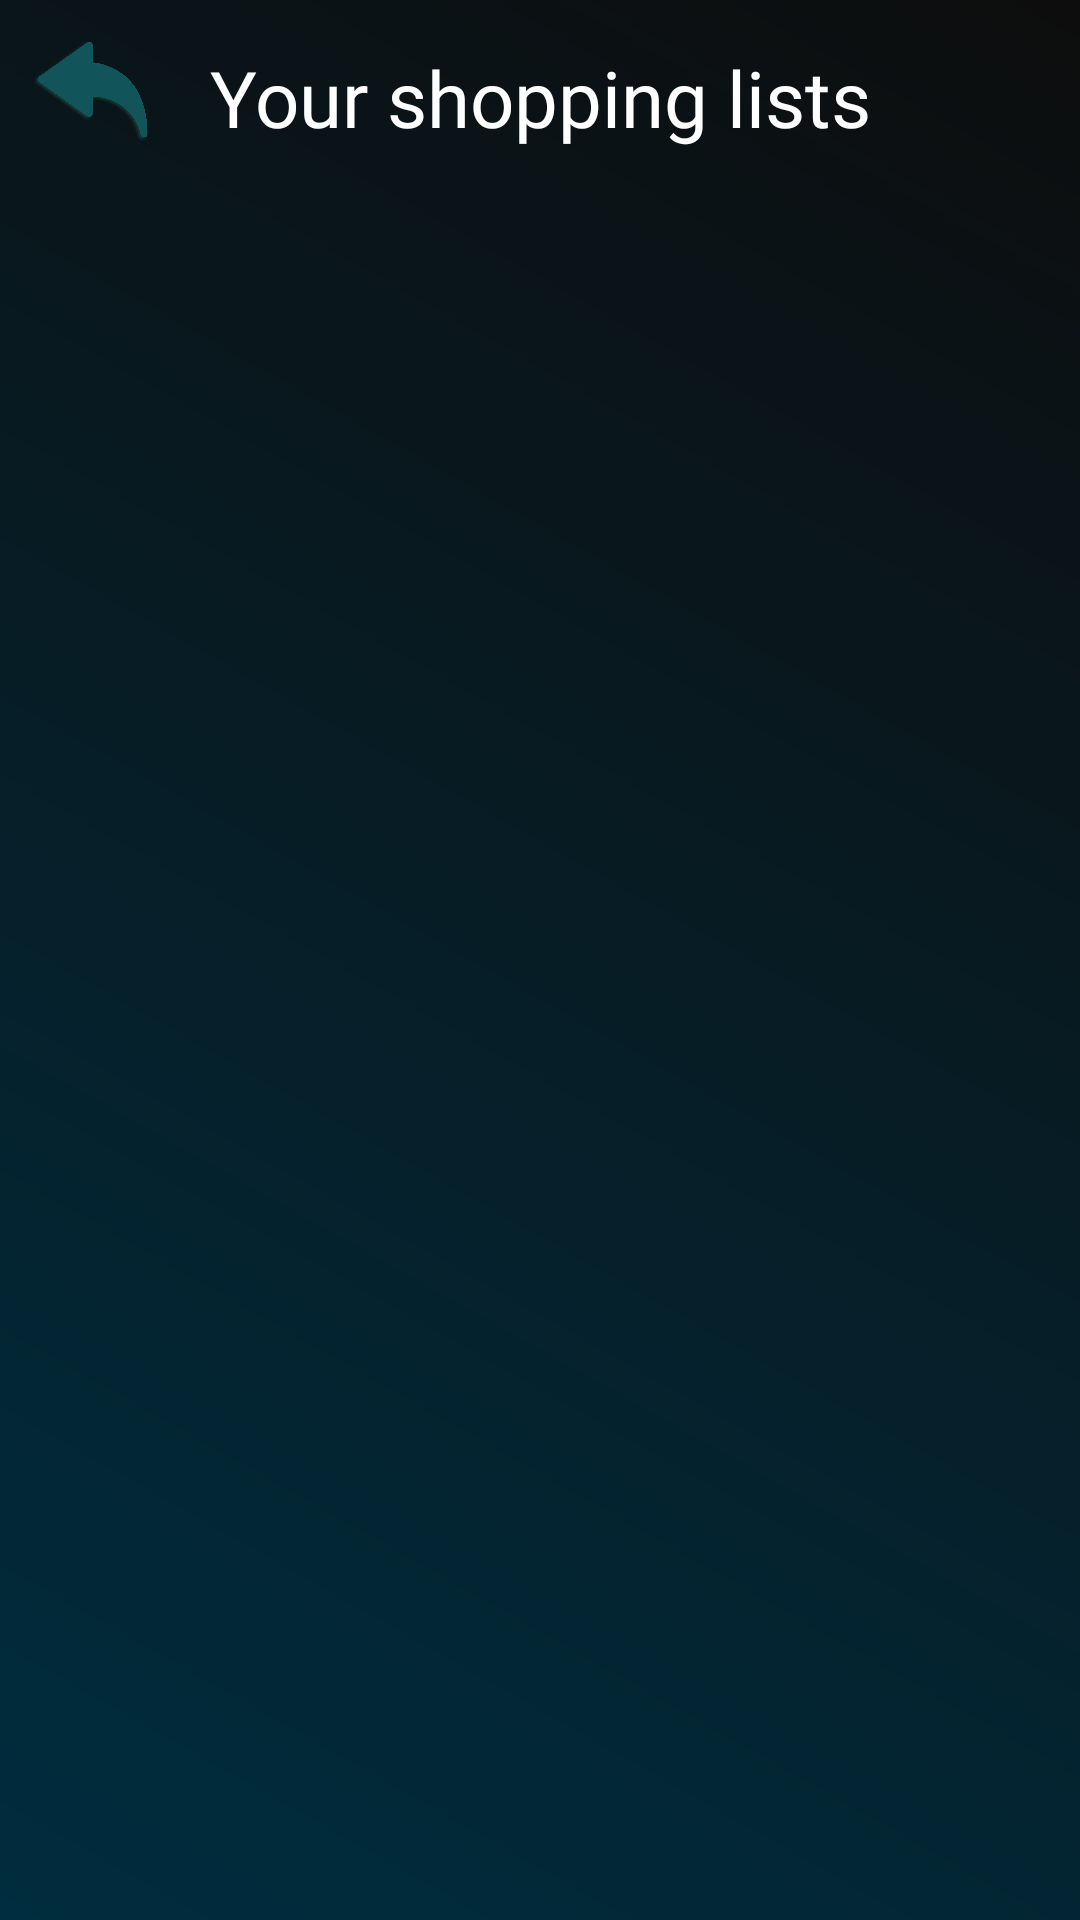

Named icons in this screenshot (1080*1920) and their bounding boxes, bbox=(x1, y1, x2, y2):
back arrow: bbox=(37, 42, 147, 138)
